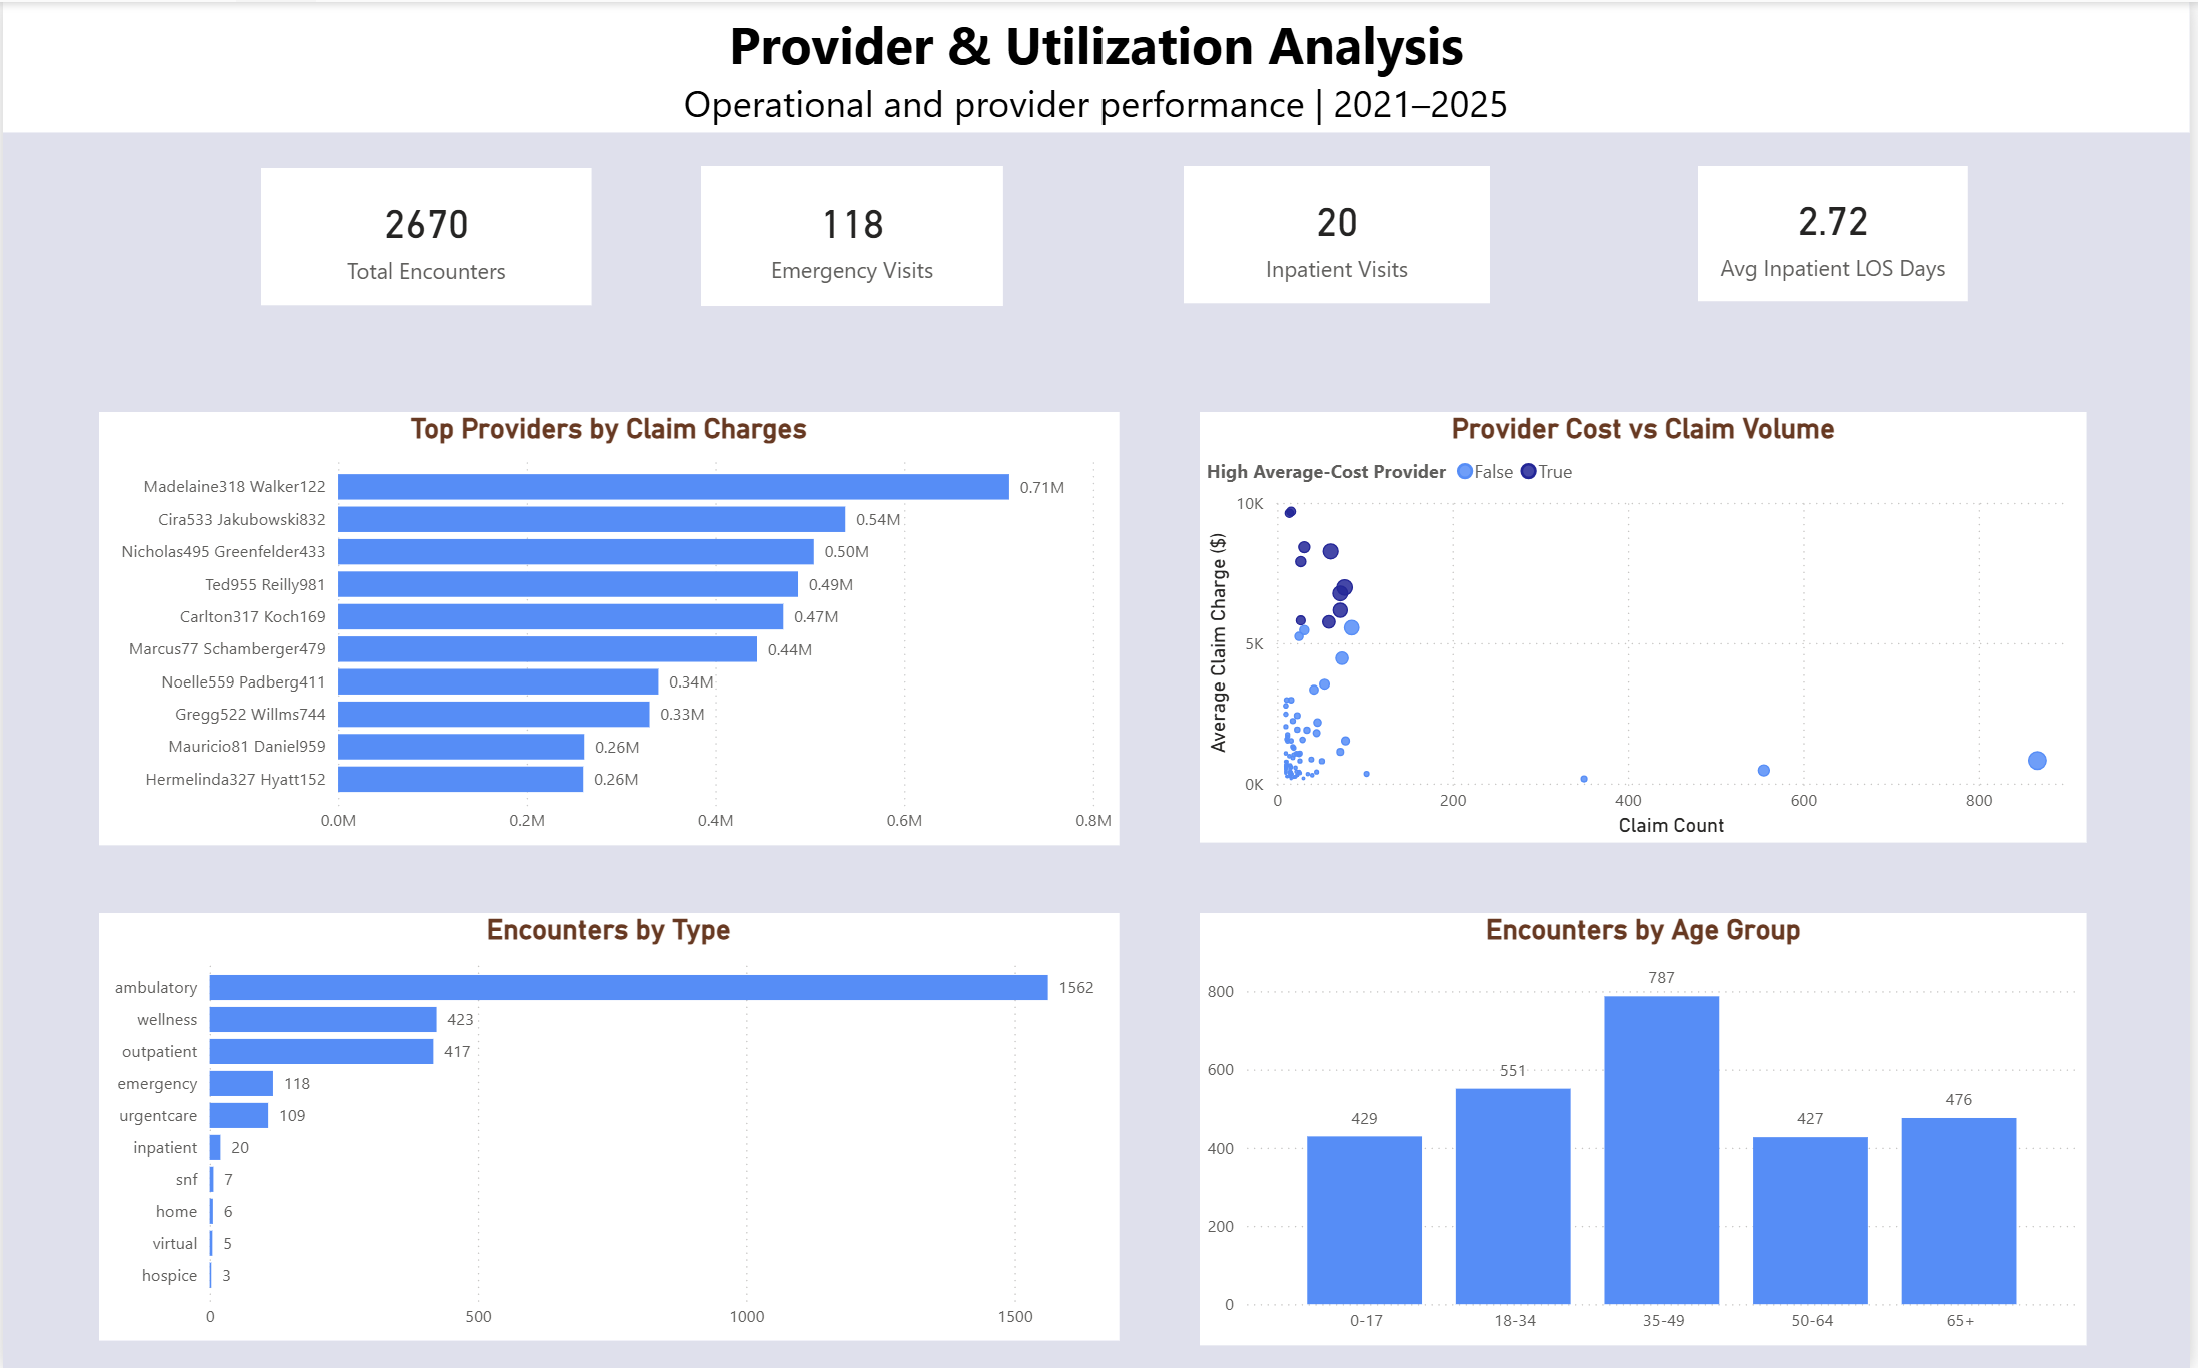

This screenshot's page, from the dashboard's own definition file:
{"tool":"powerbi","page":{"name":"Provider & Utilization","canvas":[1600,1000],"ordinal":1},"visuals":[{"type":"textbox","box":[0,0,1600,95.6],"z":0},{"type":"card","fields":{"Values":["KPI Measures.Total Encounters"]},"box":[189.5,121.9,242.2,100.5],"z":1000},{"type":"card","fields":{"Values":["KPI Measures.Emergency Visits"]},"box":[510.3,120.1,221.2,102.7],"z":2000},{"type":"card","fields":{"Values":["KPI Measures.Inpatient Visits"]},"box":[863.4,120.3,224.1,100.5],"z":3000},{"type":"card","fields":{"Values":["KPI Measures.Avg Inpatient LOS Days"]},"box":[1240.8,120.3,197.7,98.9],"z":4000},{"type":"clusteredBarChart","title":"Top Providers by Claim Charges","fields":{"Category":["Provider Performance.provider_name"],"Y":["Sum(Provider Performance.total_charges)"]},"box":[70.9,299.9,746.4,316.4],"z":5000},{"type":"scatterChart","title":"Provider Cost vs Claim Volume","fields":{"Category":["Provider Performance.provider_id"],"X":["Sum(Provider Performance.claim_count)"],"Y":["Sum(Provider Performance.average_claim_charge)"],"Series":["Provider Performance.high_avg_cost_flag"],"Size":["Sum(Provider Performance.total_charges)"]},"box":[875,299.9,649.2,314.7],"z":6000},{"type":"clusteredBarChart","title":"Encounters by Type","fields":{"Category":["Encounter Type Utilization.encounter_class"],"Y":["Sum(Encounter Type Utilization.encounter_count)"]},"box":[70.9,665.7,746.4,313.1],"z":7000},{"type":"clusteredColumnChart","title":"Encounters by Age Group","fields":{"Category":["Utilization by Age.age_group"],"Y":["Sum(Utilization by Age.total_encounters)"]},"box":[875,665.7,649.2,316.4],"z":8000}]}

Visuals, with their boxes in screenshot pixels (x1, y1, x2, y2), scaled from the page's 1600x1000 canvas onto the 2198x1368 screenshot:
textbox: rect(0, 0, 2197, 131)
card - KPI Measures.Total Encounters: rect(260, 167, 593, 304)
card - KPI Measures.Emergency Visits: rect(701, 164, 1005, 305)
card - KPI Measures.Inpatient Visits: rect(1186, 165, 1494, 302)
card - KPI Measures.Avg Inpatient LOS Days: rect(1705, 165, 1976, 300)
"Top Providers by Claim Charges" clusteredBarChart: rect(97, 410, 1123, 843)
"Provider Cost vs Claim Volume" scatterChart: rect(1202, 410, 2094, 841)
"Encounters by Type" clusteredBarChart: rect(97, 911, 1123, 1339)
"Encounters by Age Group" clusteredColumnChart: rect(1202, 911, 2094, 1344)
